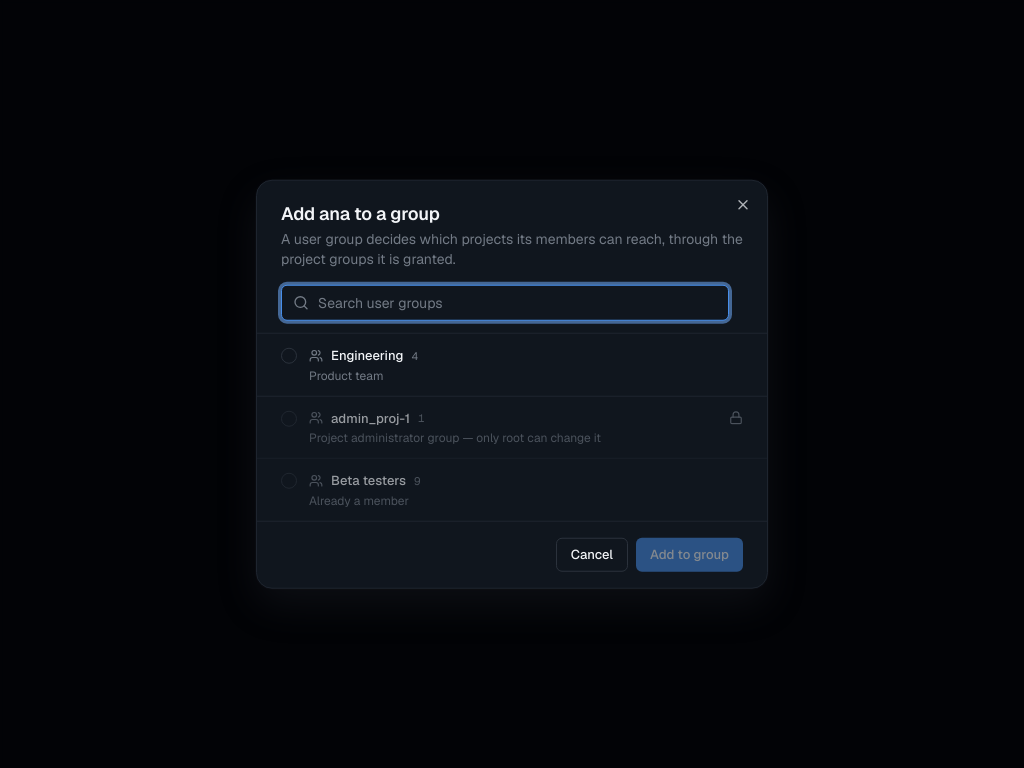
Test: AssignGroupModal › shows the project groups a group grants
Click the radio button labelled "Engineering 4 Product team": (367, 355) [257, 334, 767, 396]
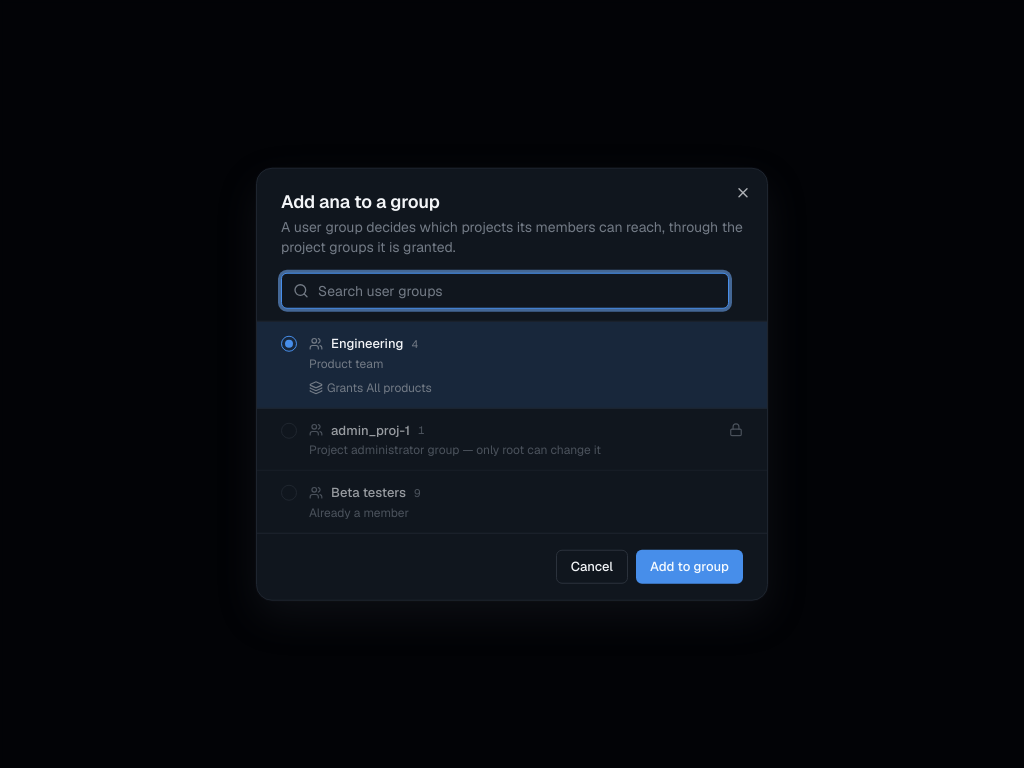
Now the text "Grants All products" is shown, box [309, 379, 432, 395]
